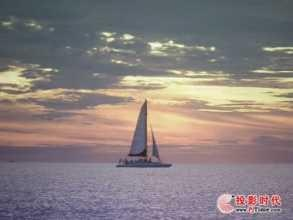fanchuan: (119, 98, 174, 171)
